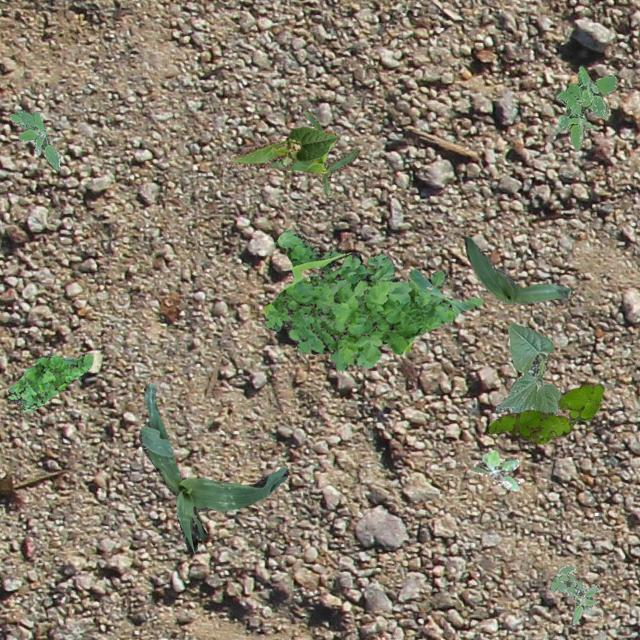crop: (138, 382, 288, 552), (264, 108, 358, 194), (464, 236, 570, 304), (494, 322, 560, 414), (228, 126, 338, 168)
weed: (264, 228, 482, 372), (487, 382, 602, 443), (556, 64, 616, 150), (5, 352, 91, 412), (8, 109, 60, 170), (548, 564, 598, 626), (470, 448, 520, 491)
